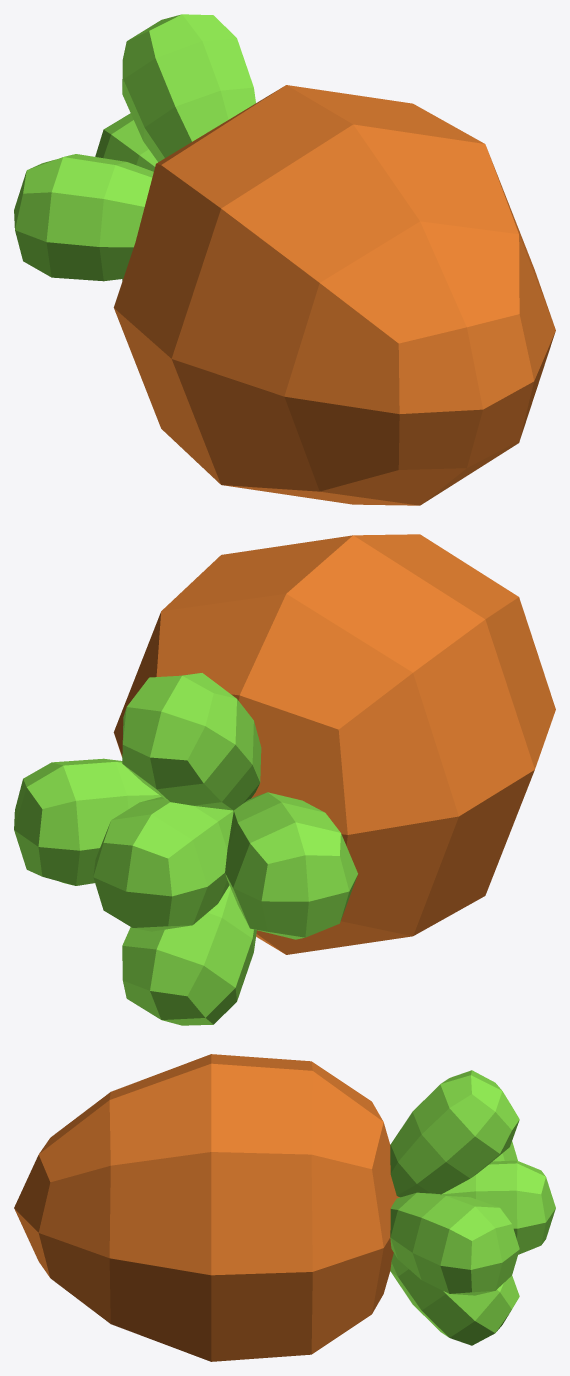
The model's file is bullet.fbx.
3 renders of one model, top to bottom at view 1: azimuth 30°, elevation 25°; view 2: azimuth 150°, elevation 25°; view 3: azimuth 270°, elevation 25°, orthographic. The views are drawn at different scales.
Visible parts, largest first — view 1: Cube; view 2: Cube; view 3: Cube.
Part boxes in pixels (box(x1,y1,x2,y2)): Cube: box(14, 14, 555, 505); Cube: box(14, 534, 555, 1025); Cube: box(14, 1054, 555, 1361).
Bounding box in the file's own units: 1.09 × 1.09 × 1.85.
